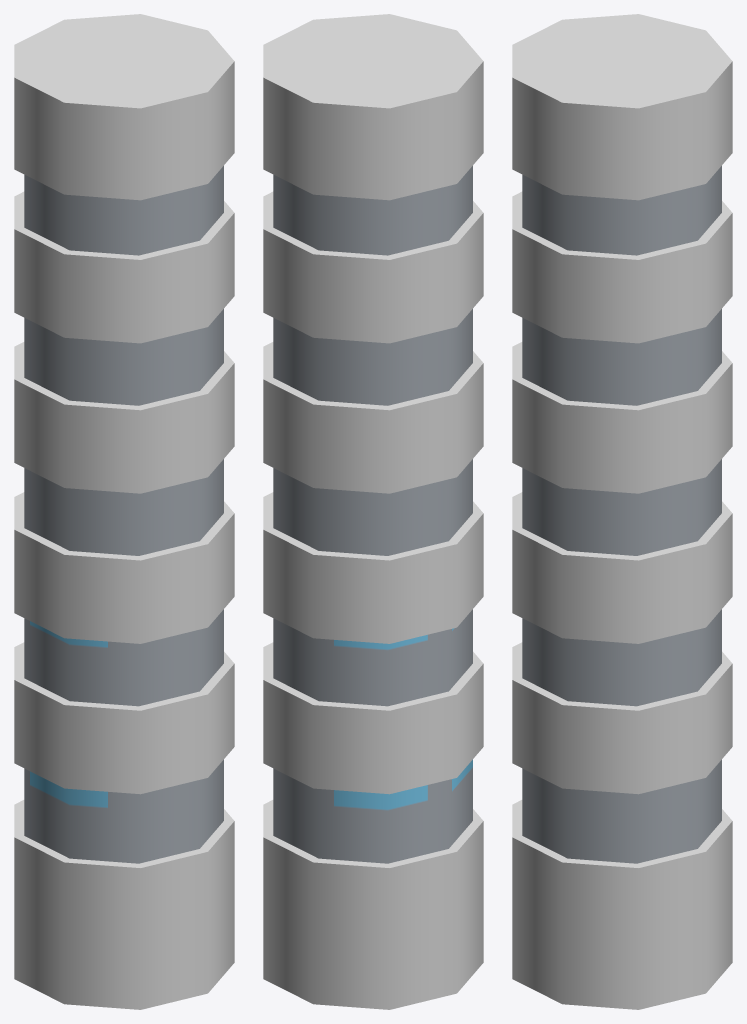
The model's file is B3Building.fbx.
3 renders of one model, left to right at view 1: azimuth 30°, elevation 25°; view 2: azimuth 150°, elevation 25°; view 3: azimuth 270°, elevation 25°, orthographic.
Parts seen in each view (by area): view 1: Cylinder; view 2: Cylinder; view 3: Cylinder.
Boxes of the visible parts, x1,y1,x2,y2 form: Cylinder: [14, 14, 234, 1009]; Cylinder: [263, 14, 483, 1009]; Cylinder: [512, 14, 732, 1009].
Size of the model in its own units: 197 by 877 by 194.
2 materials, 1 textured.
